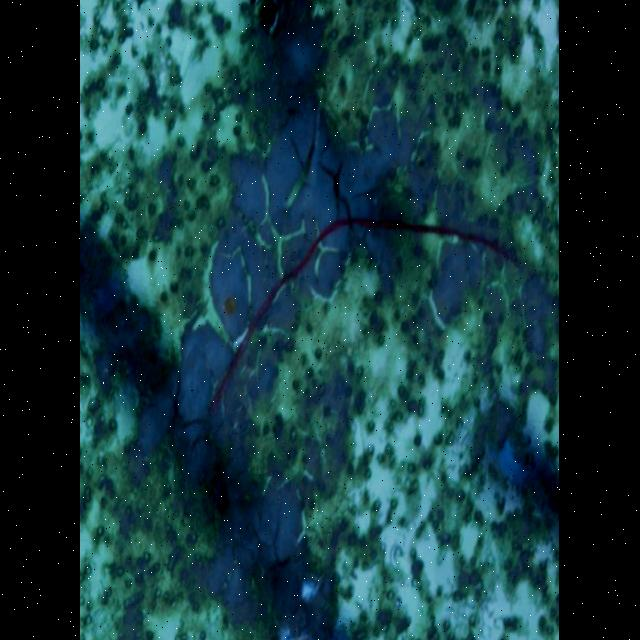Fibre: (207, 212, 546, 418)
